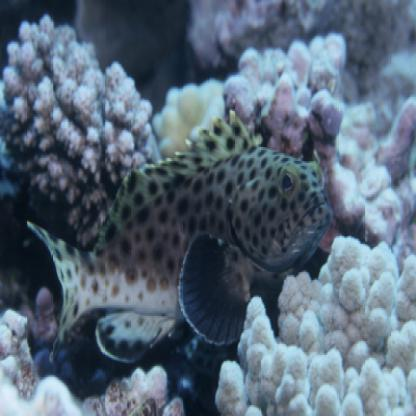Serranidae -Groupers-: (20, 104, 338, 367)
